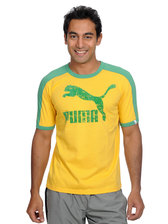clothoes: (31, 60, 143, 196)
